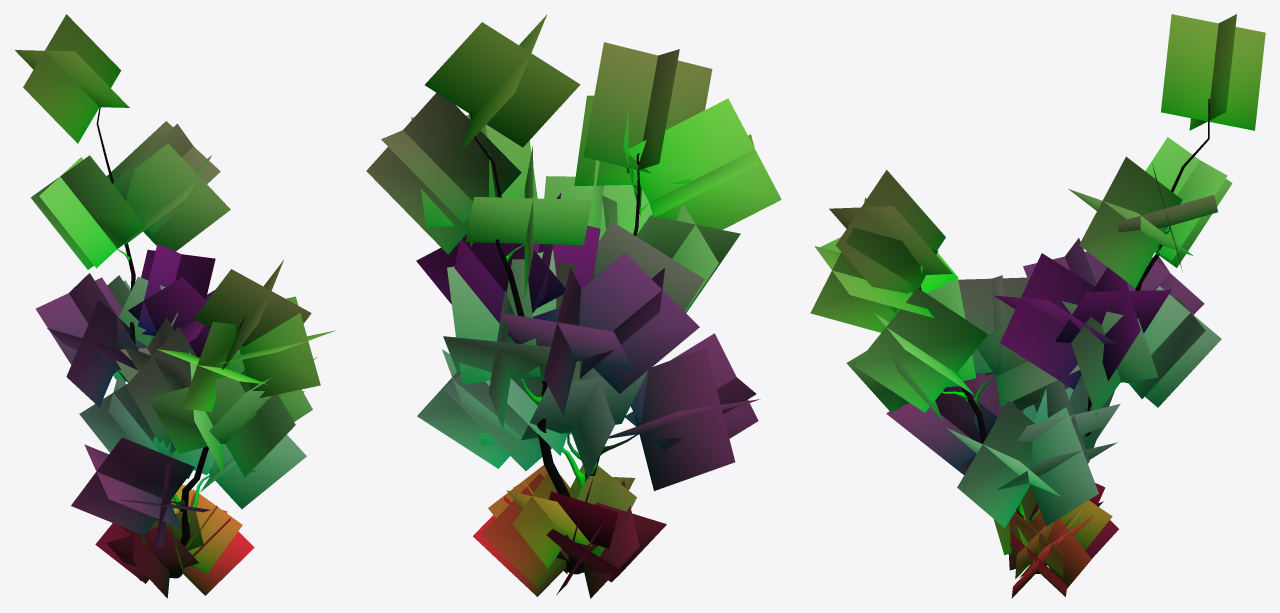
File: M_P12_Tree_8.fbx
3 views of the same model, side by side, from view 1: azimuth 30°, elevation 25°; view 2: azimuth 150°, elevation 25°; view 3: azimuth 270°, elevation 25° (orthographic). The views are drawn at different scales.
Parts seen in each view (by area): view 1: Tree_8; view 2: Tree_8; view 3: Tree_8.
Part boxes in pixels (x1,y1,x2,y2): Tree_8: (15, 14, 335, 598); Tree_8: (366, 15, 781, 598); Tree_8: (810, 14, 1265, 598).
Bounding box in the file's own units: 183 × 414 × 302.
